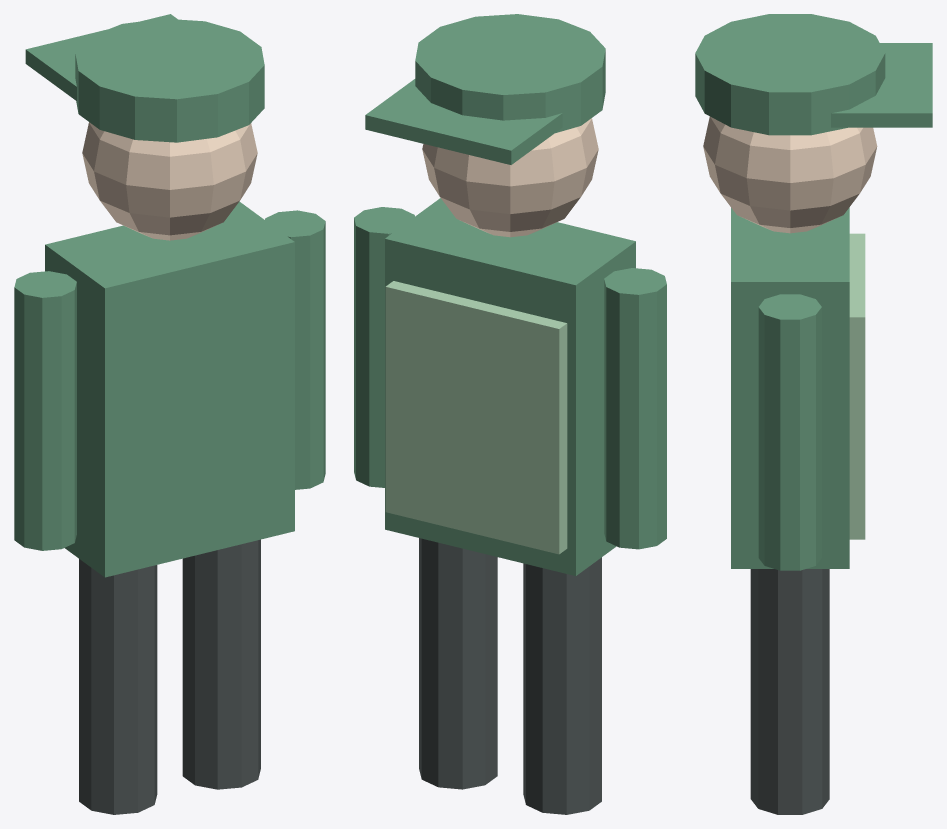
File: player.glb
3 views of the same model, side by side, from view 1: azimuth 30°, elevation 25°; view 2: azimuth 150°, elevation 25°; view 3: azimuth 270°, elevation 25° (orthographic).
Parts seen in each view (by area): view 1: torso, cap, leg_-0.15, leg_0.15, arm_-0.36, head, arm_0.36, cap_brim; view 2: apron, torso, leg_-0.15, leg_0.15, cap, arm_-0.36, head, arm_0.36, cap_brim; view 3: torso, leg_0.15, cap, arm_0.36, head, cap_brim, apron.
Boxes of the visible parts, x1=… form: torso: x1=45, y1=201, x2=294, y2=577; cap: x1=75, y1=18, x2=264, y2=142; leg_-0.15: x1=79, y1=559, x2=157, y2=814; leg_0.15: x1=182, y1=539, x2=260, y2=789; arm_-0.36: x1=14, y1=271, x2=76, y2=550; head: x1=82, y1=122, x2=257, y2=240; arm_0.36: x1=265, y1=210, x2=325, y2=489; cap_brim: x1=25, y1=14, x2=177, y2=100; apron: x1=385, y1=281, x2=567, y2=554; torso: x1=385, y1=198, x2=635, y2=575; leg_-0.15: x1=523, y1=557, x2=601, y2=814; leg_0.15: x1=419, y1=538, x2=497, y2=789; cap: x1=415, y1=14, x2=605, y2=133; arm_-0.36: x1=604, y1=268, x2=666, y2=549; head: x1=422, y1=118, x2=598, y2=237; arm_0.36: x1=354, y1=207, x2=414, y2=487; cap_brim: x1=365, y1=79, x2=562, y2=164; torso: x1=731, y1=207, x2=849, y2=568; leg_0.15: x1=750, y1=569, x2=829, y2=814; cap: x1=695, y1=14, x2=885, y2=135; arm_0.36: x1=758, y1=294, x2=821, y2=570; head: x1=703, y1=116, x2=877, y2=233; cap_brim: x1=831, y1=43, x2=932, y2=127; apron: x1=849, y1=233, x2=865, y2=539.
Bounding box in the file's own units: 0.8722 × 2.01 × 0.6.
